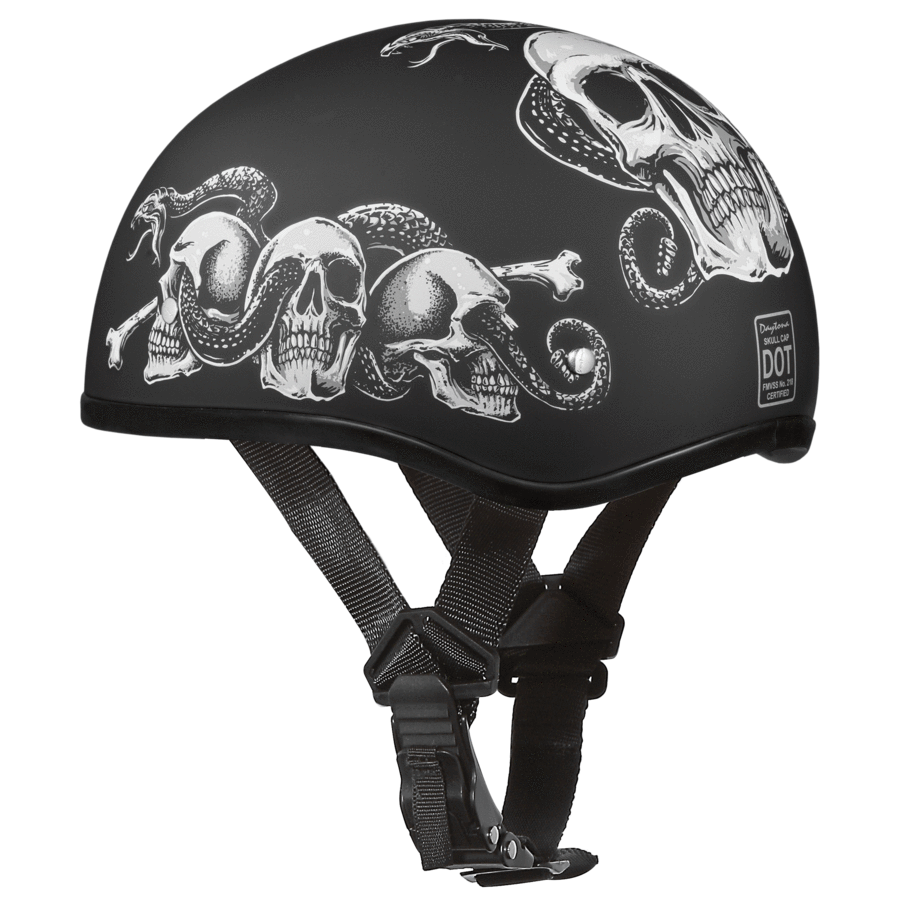with_helmet: (78, 10, 833, 536)
